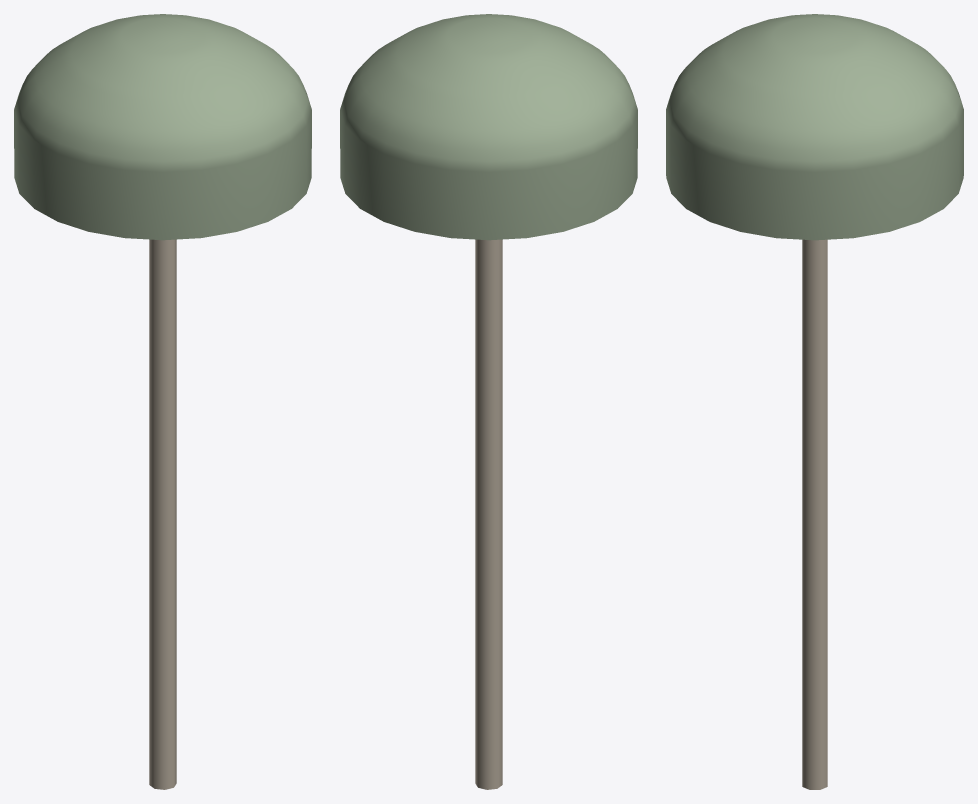
File: WashingtoniaFilifera.glb
3 views of the same model, side by side, from view 1: azimuth 30°, elevation 25°; view 2: azimuth 150°, elevation 25°; view 3: azimuth 270°, elevation 25° (orthographic).
Visible parts, largest first — view 1: California_Palm__Schematic_LOD3; view 2: California_Palm__Schematic_LOD3; view 3: California_Palm__Schematic_LOD3.
Part boxes in pixels (x1,y1,x2,y2): California_Palm__Schematic_LOD3: (14, 14, 311, 789); California_Palm__Schematic_LOD3: (340, 14, 637, 789); California_Palm__Schematic_LOD3: (666, 14, 963, 789).
Size of the model in its own units: 6.48 by 18.05 by 6.48.
